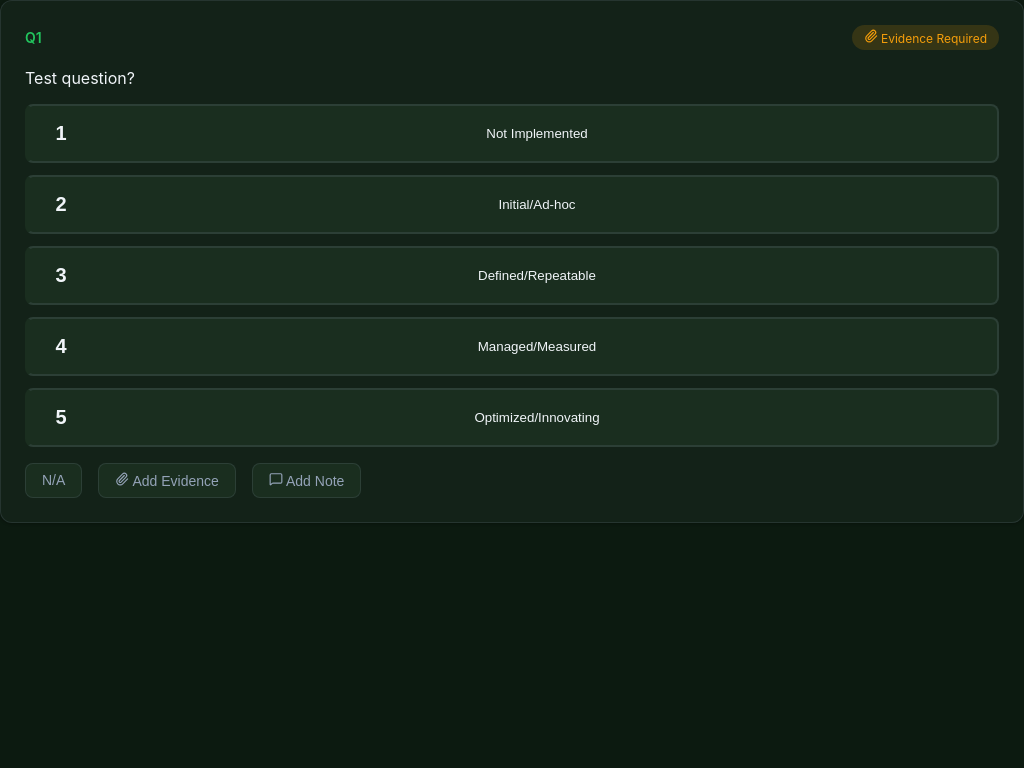
Test: QuestionCard › Comments / Notes › should show textarea when toggle button is clicked
Step 1. Click the button with test id "comment-toggle-q1" → (307, 480), box [252,463,361,498]
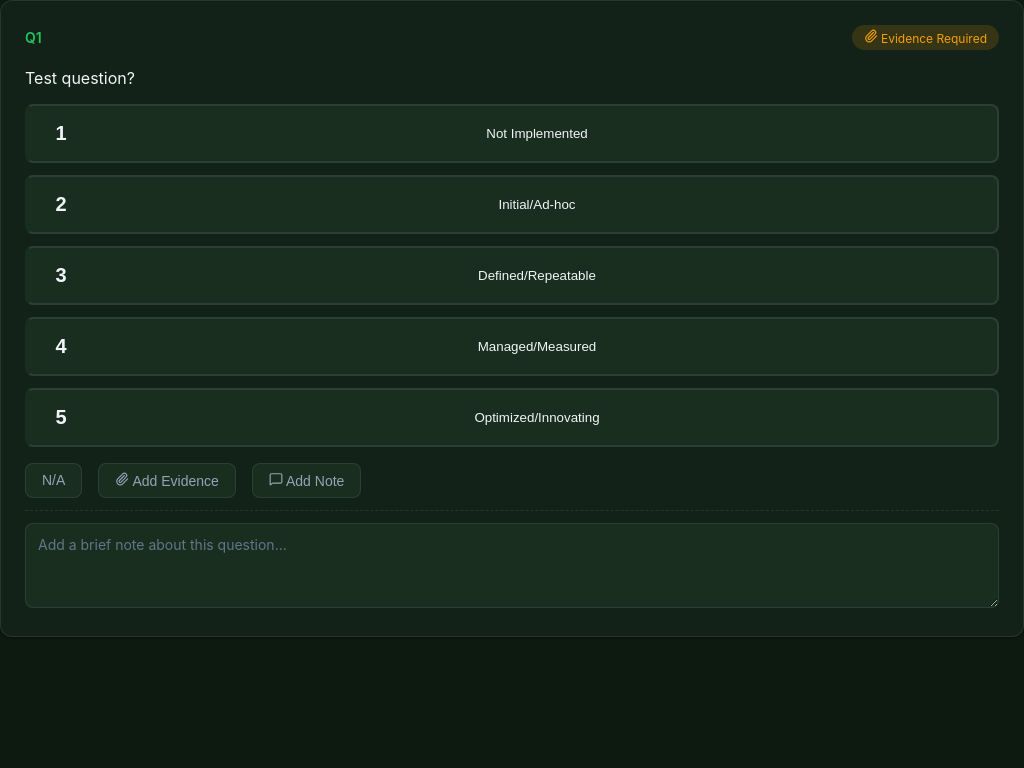
Check: the element with test id "comment-area-q1" is shown, box [25,510,999,612]
